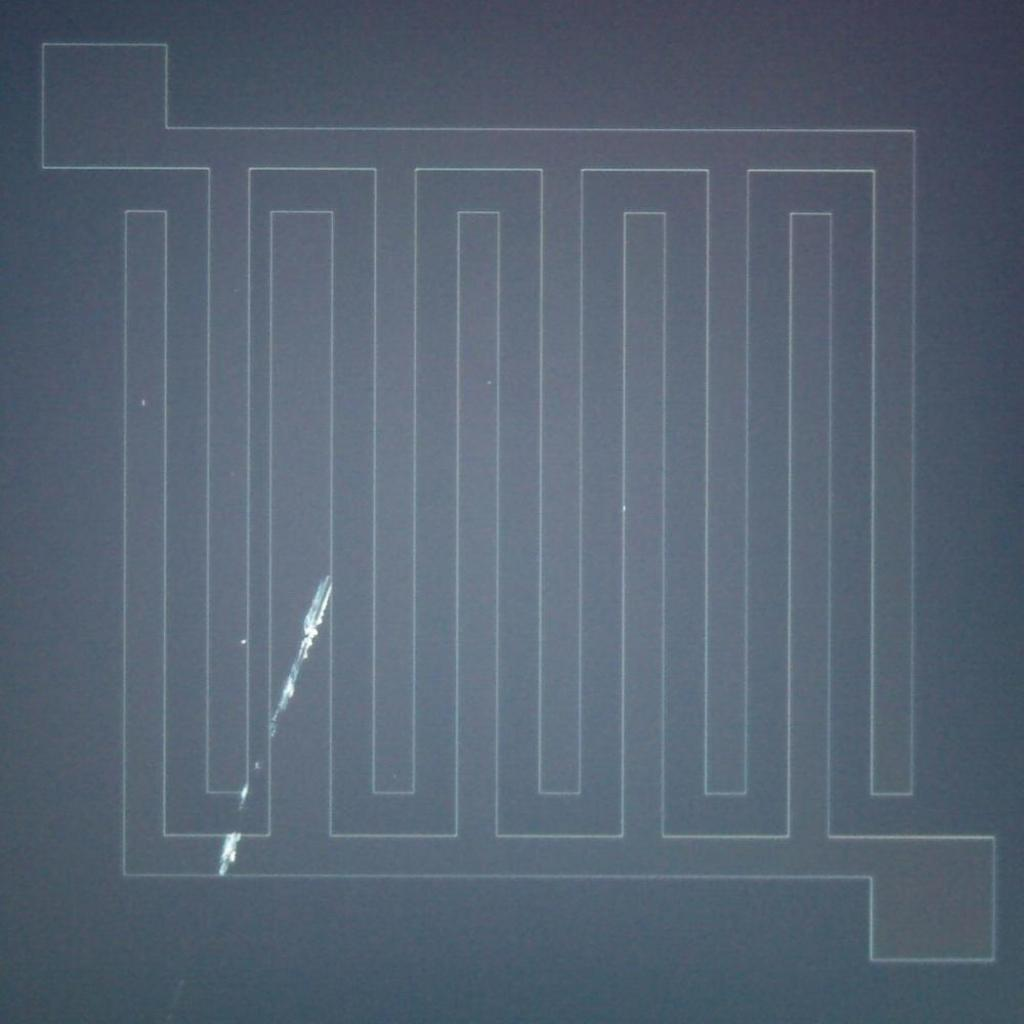dot: (141, 400, 147, 406), (254, 762, 260, 768), (240, 640, 246, 644), (488, 380, 492, 384)
straight: (212, 837, 248, 874), (279, 648, 315, 684), (272, 684, 308, 720), (294, 614, 330, 649), (298, 582, 329, 613)
